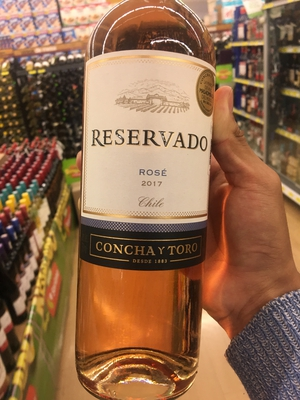reservado rose: (77, 3, 215, 400)
